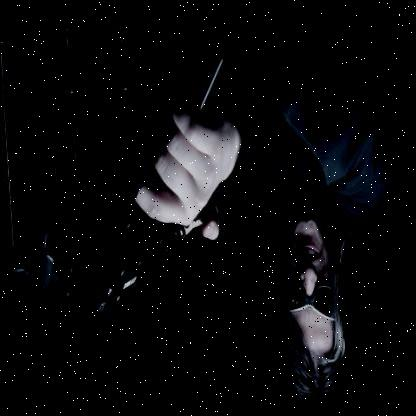rifle: (0, 43, 255, 335)
